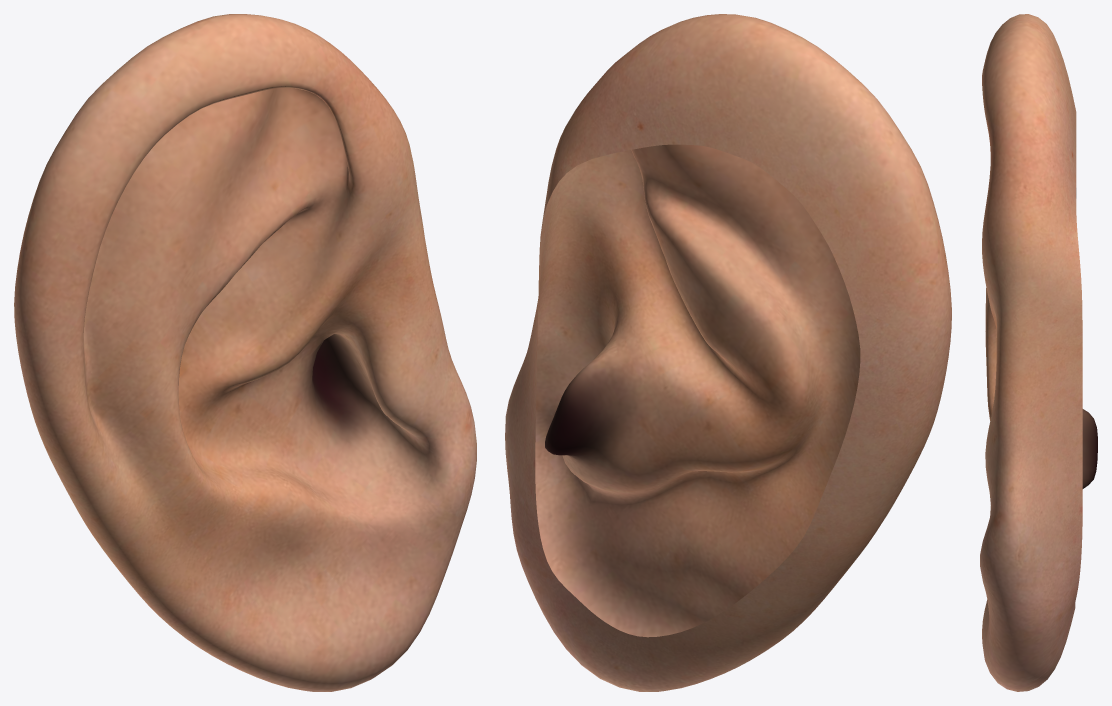
Rendered from human ear.glb.
3 renders of one model, left to right at view 1: azimuth 30°, elevation 25°; view 2: azimuth 150°, elevation 25°; view 3: azimuth 270°, elevation 25°, orthographic. The views are drawn at different scales.
Visible parts, largest first — view 1: earnewmeshh_2; view 2: earnewmeshh_2; view 3: earnewmeshh_2.
Part boxes in pixels (left/top/right/bottom): earnewmeshh_2: left=14, top=14, right=476, bottom=691; earnewmeshh_2: left=505, top=14, right=951, bottom=691; earnewmeshh_2: left=980, top=14, right=1097, bottom=691.
Size of the model in its own units: 2.53 by 3.75 by 0.6623.
Materials: 1 (1 with a texture image).
